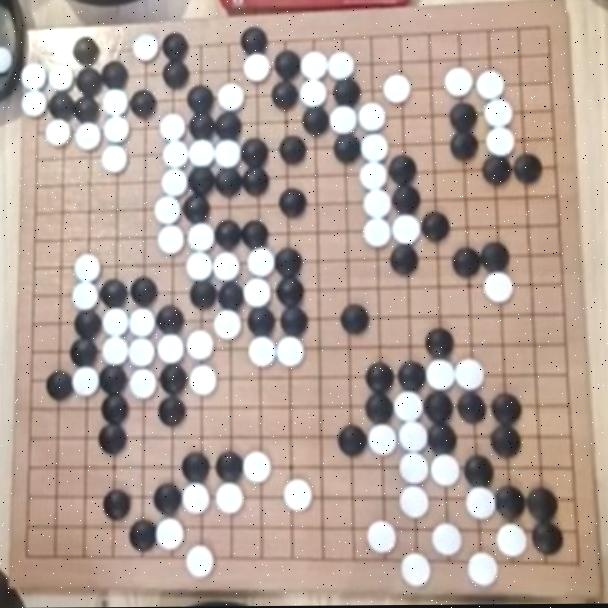corners: (566, 547, 593, 585), (13, 543, 42, 575), (535, 14, 561, 47), (27, 35, 52, 65)
